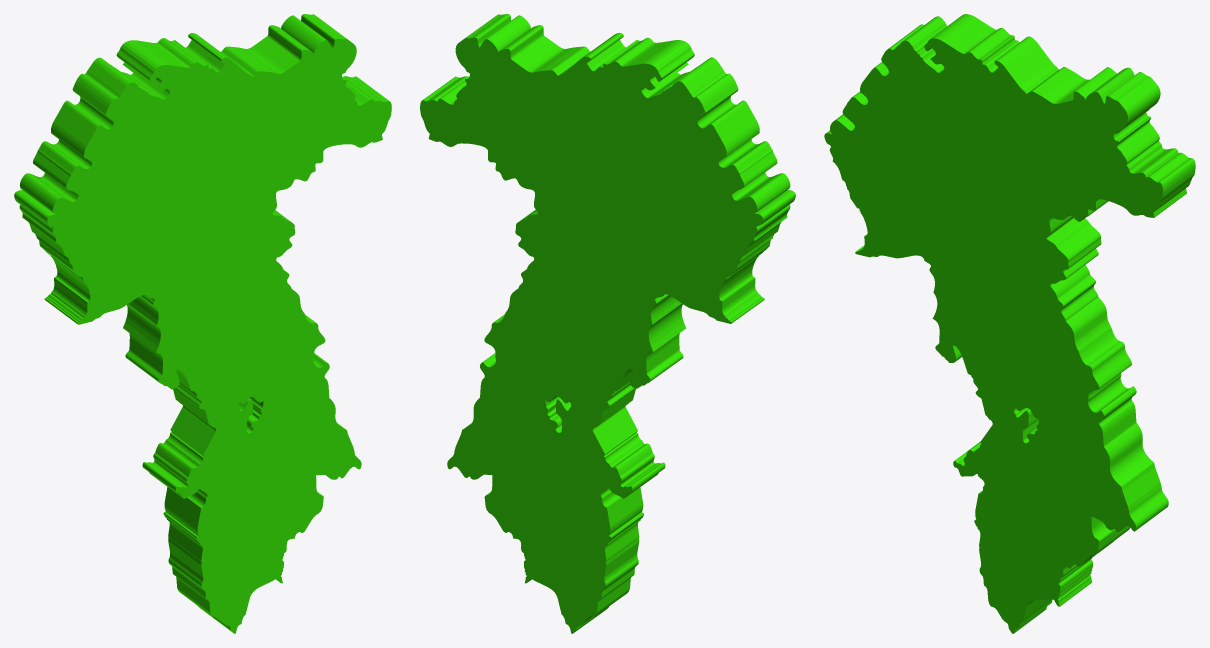
File: ichihara.glb
The picture shows the model from 3 angles, left to right: view 1: azimuth 30°, elevation 25°; view 2: azimuth 150°, elevation 25°; view 3: azimuth 330°, elevation 25°; orthographic projection.
Visible parts, largest first — view 1: Curve; view 2: Curve; view 3: Curve.
Boxes of the visible parts, x1=… form: Curve: x1=14, y1=14, x2=391, y2=633; Curve: x1=420, y1=14, x2=795, y2=633; Curve: x1=824, y1=14, x2=1195, y2=633.
Bounding box in the file's own units: 3.9 × 6.37 × 0.6985.
